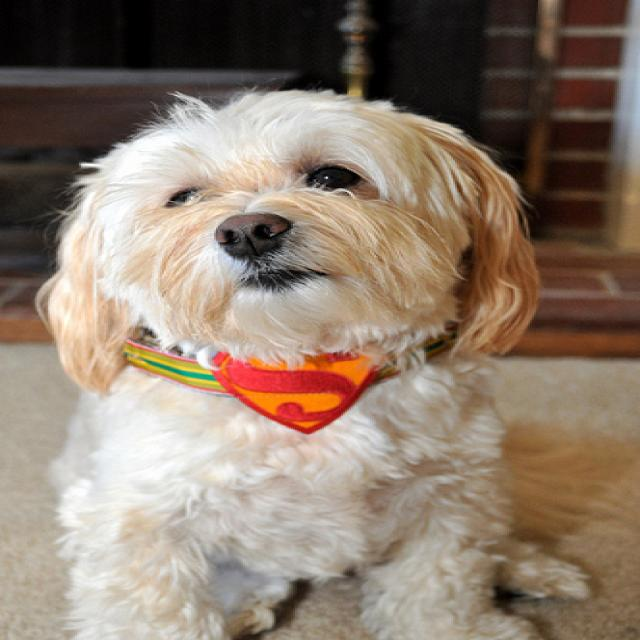dog-havanese: (13, 70, 636, 637)
